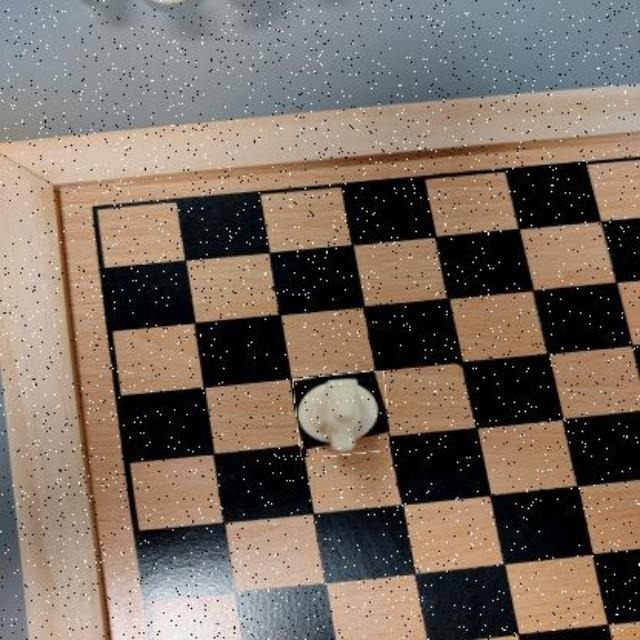white-knight: (294, 373, 389, 456)
